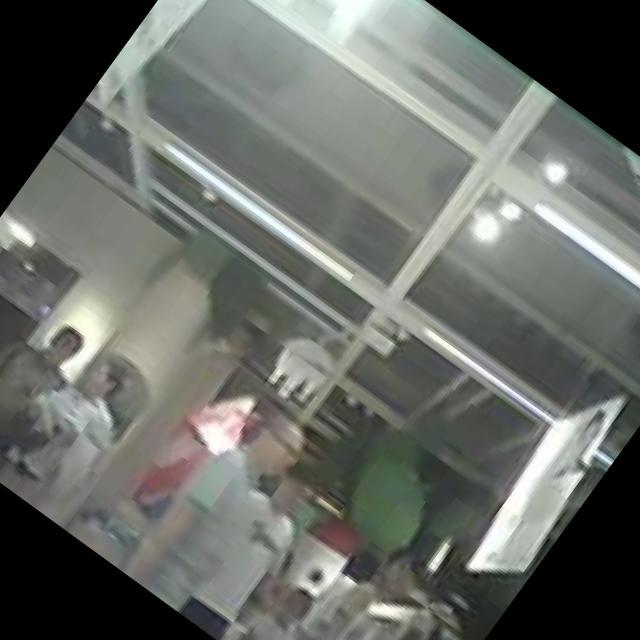person: (111, 380, 322, 620), (161, 440, 344, 640), (0, 329, 154, 520), (0, 298, 101, 484), (277, 532, 441, 640), (236, 572, 326, 640)
